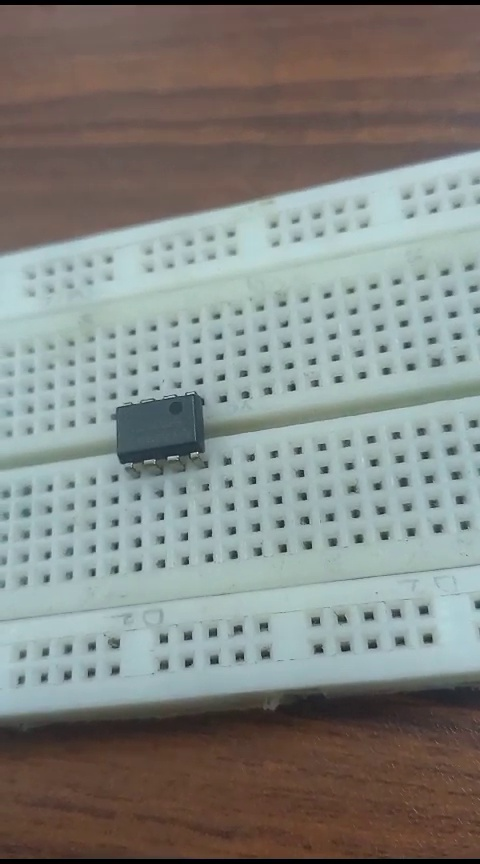IC: (104, 391, 224, 480)
